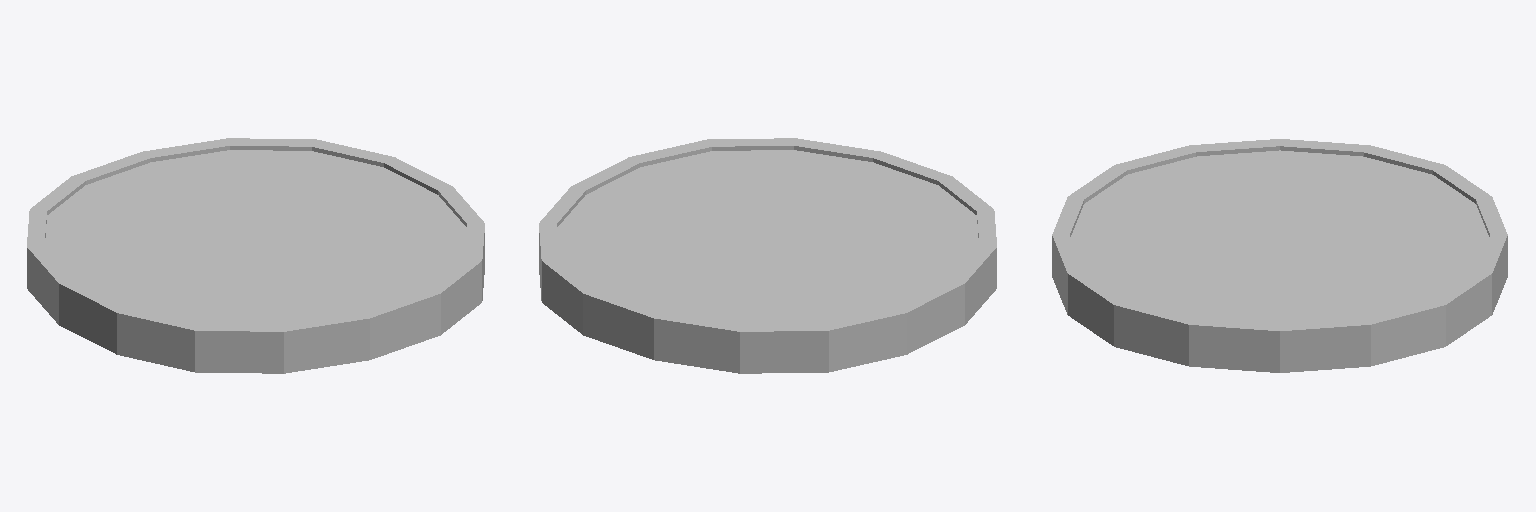
Rendered from manhole_Low.obj.
3 renders of one model, left to right at view 1: azimuth 30°, elevation 25°; view 2: azimuth 150°, elevation 25°; view 3: azimuth 270°, elevation 25°, orthographic.
Parts seen in each view (by area): view 1: Low; view 2: Low; view 3: Low.
Part boxes in pixels (x1,y1,x2,y2): Low: (27, 138, 484, 373); Low: (539, 138, 996, 373); Low: (1052, 139, 1507, 372).
Size of the model in its own units: 1.83 by 0.1857 by 1.83.